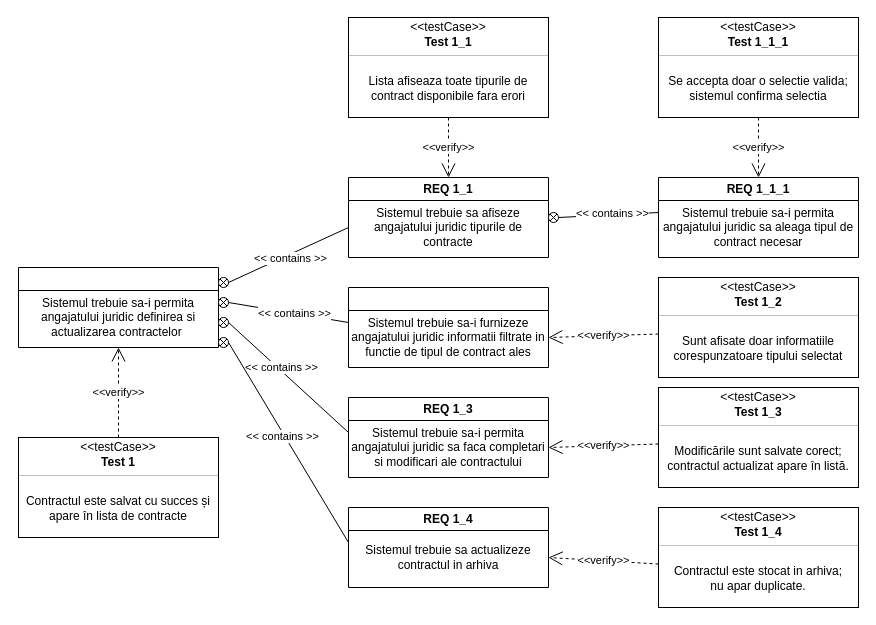
The diagram is 876 pixels wide and 625 high, and some of its shapes have lost their labels. Each missing label, with the box of its shape:
REQ 1: (18, 266, 218, 348)
REQ 1_2: (348, 286, 548, 368)
